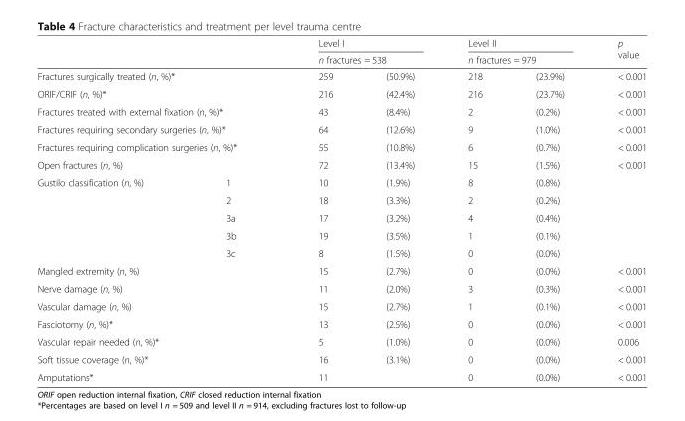table: (36, 37, 646, 382)
table column: (36, 37, 184, 382), (184, 37, 276, 382), (276, 37, 358, 382), (358, 37, 440, 382), (508, 37, 590, 382), (440, 37, 508, 382), (590, 37, 646, 382)
table column header: (36, 37, 646, 84)
table row: (36, 84, 646, 102), (36, 102, 646, 120), (36, 137, 646, 155), (36, 155, 646, 173), (36, 173, 646, 191), (36, 208, 646, 226), (36, 226, 646, 244), (36, 261, 646, 279), (36, 279, 646, 297), (36, 314, 646, 332), (36, 332, 646, 350), (36, 350, 646, 368), (36, 67, 646, 84), (36, 120, 646, 137), (36, 191, 646, 208), (36, 244, 646, 261), (36, 297, 646, 314), (36, 51, 646, 67), (36, 37, 646, 51), (36, 368, 646, 382)
table spanning cell: (36, 173, 184, 261), (276, 37, 440, 67), (440, 37, 590, 67), (36, 84, 276, 102), (36, 102, 276, 120), (36, 137, 276, 155), (36, 155, 276, 173), (36, 261, 276, 279), (36, 279, 276, 297), (36, 314, 276, 332), (36, 332, 276, 350), (36, 350, 276, 368), (36, 67, 276, 84), (36, 120, 276, 137), (36, 297, 276, 314), (36, 368, 276, 382), (590, 37, 646, 84)
